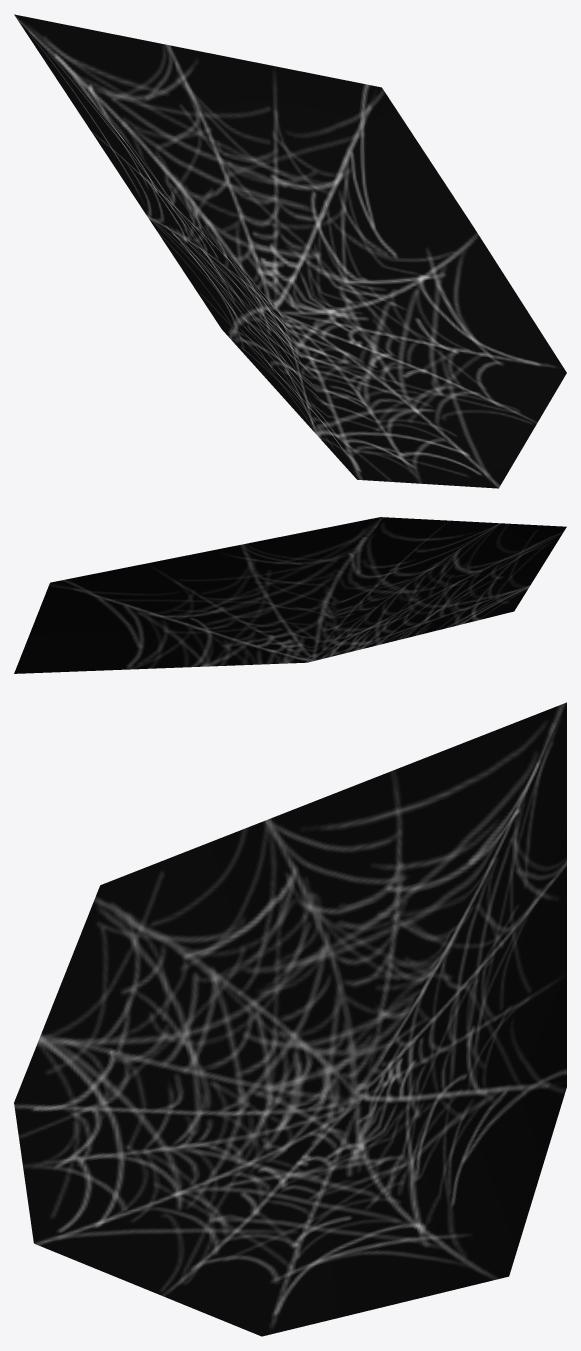
The model's file is PRP_WebB.FBX.
The picture shows the model from 3 angles, top to bottom: view 1: azimuth 30°, elevation 25°; view 2: azimuth 150°, elevation 25°; view 3: azimuth 270°, elevation 25°; orthographic projection. The views are drawn at different scales.
Visible parts, largest first — view 1: PRP_WebB; view 2: PRP_WebB; view 3: PRP_WebB.
Boxes of the visible parts, x1,y1,x2,y2 form: PRP_WebB: (14,14,566,488); PRP_WebB: (14,517,566,673); PRP_WebB: (14,702,566,1336).
Bounding box in the file's own units: 138 × 110 × 135.
1 material, 1 textured.
